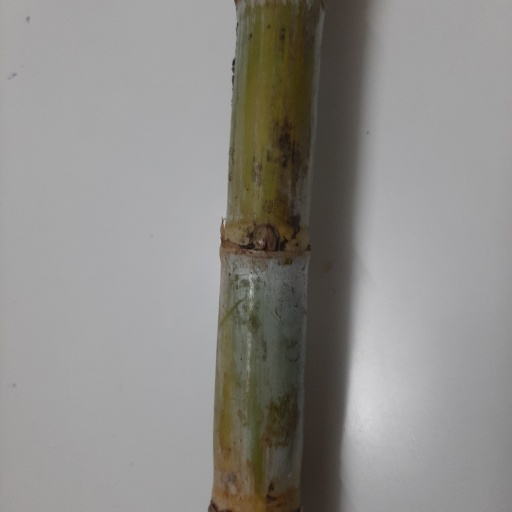Bud: (250, 221, 277, 250)
